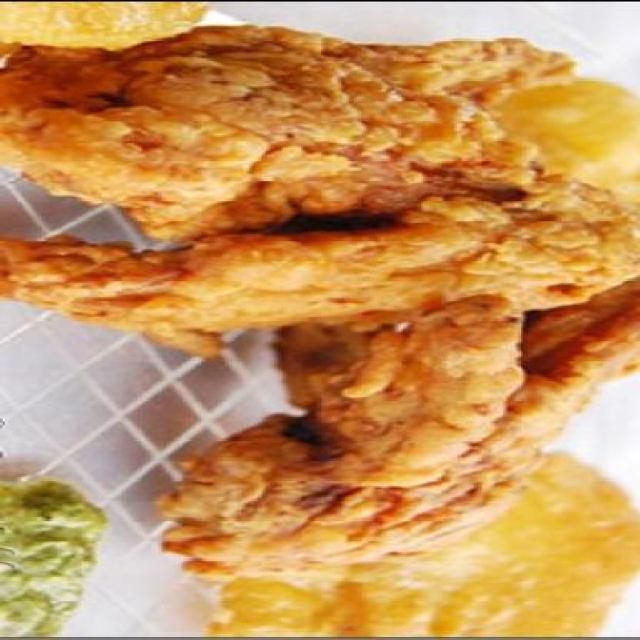Chicken: (37, 36, 625, 575)
